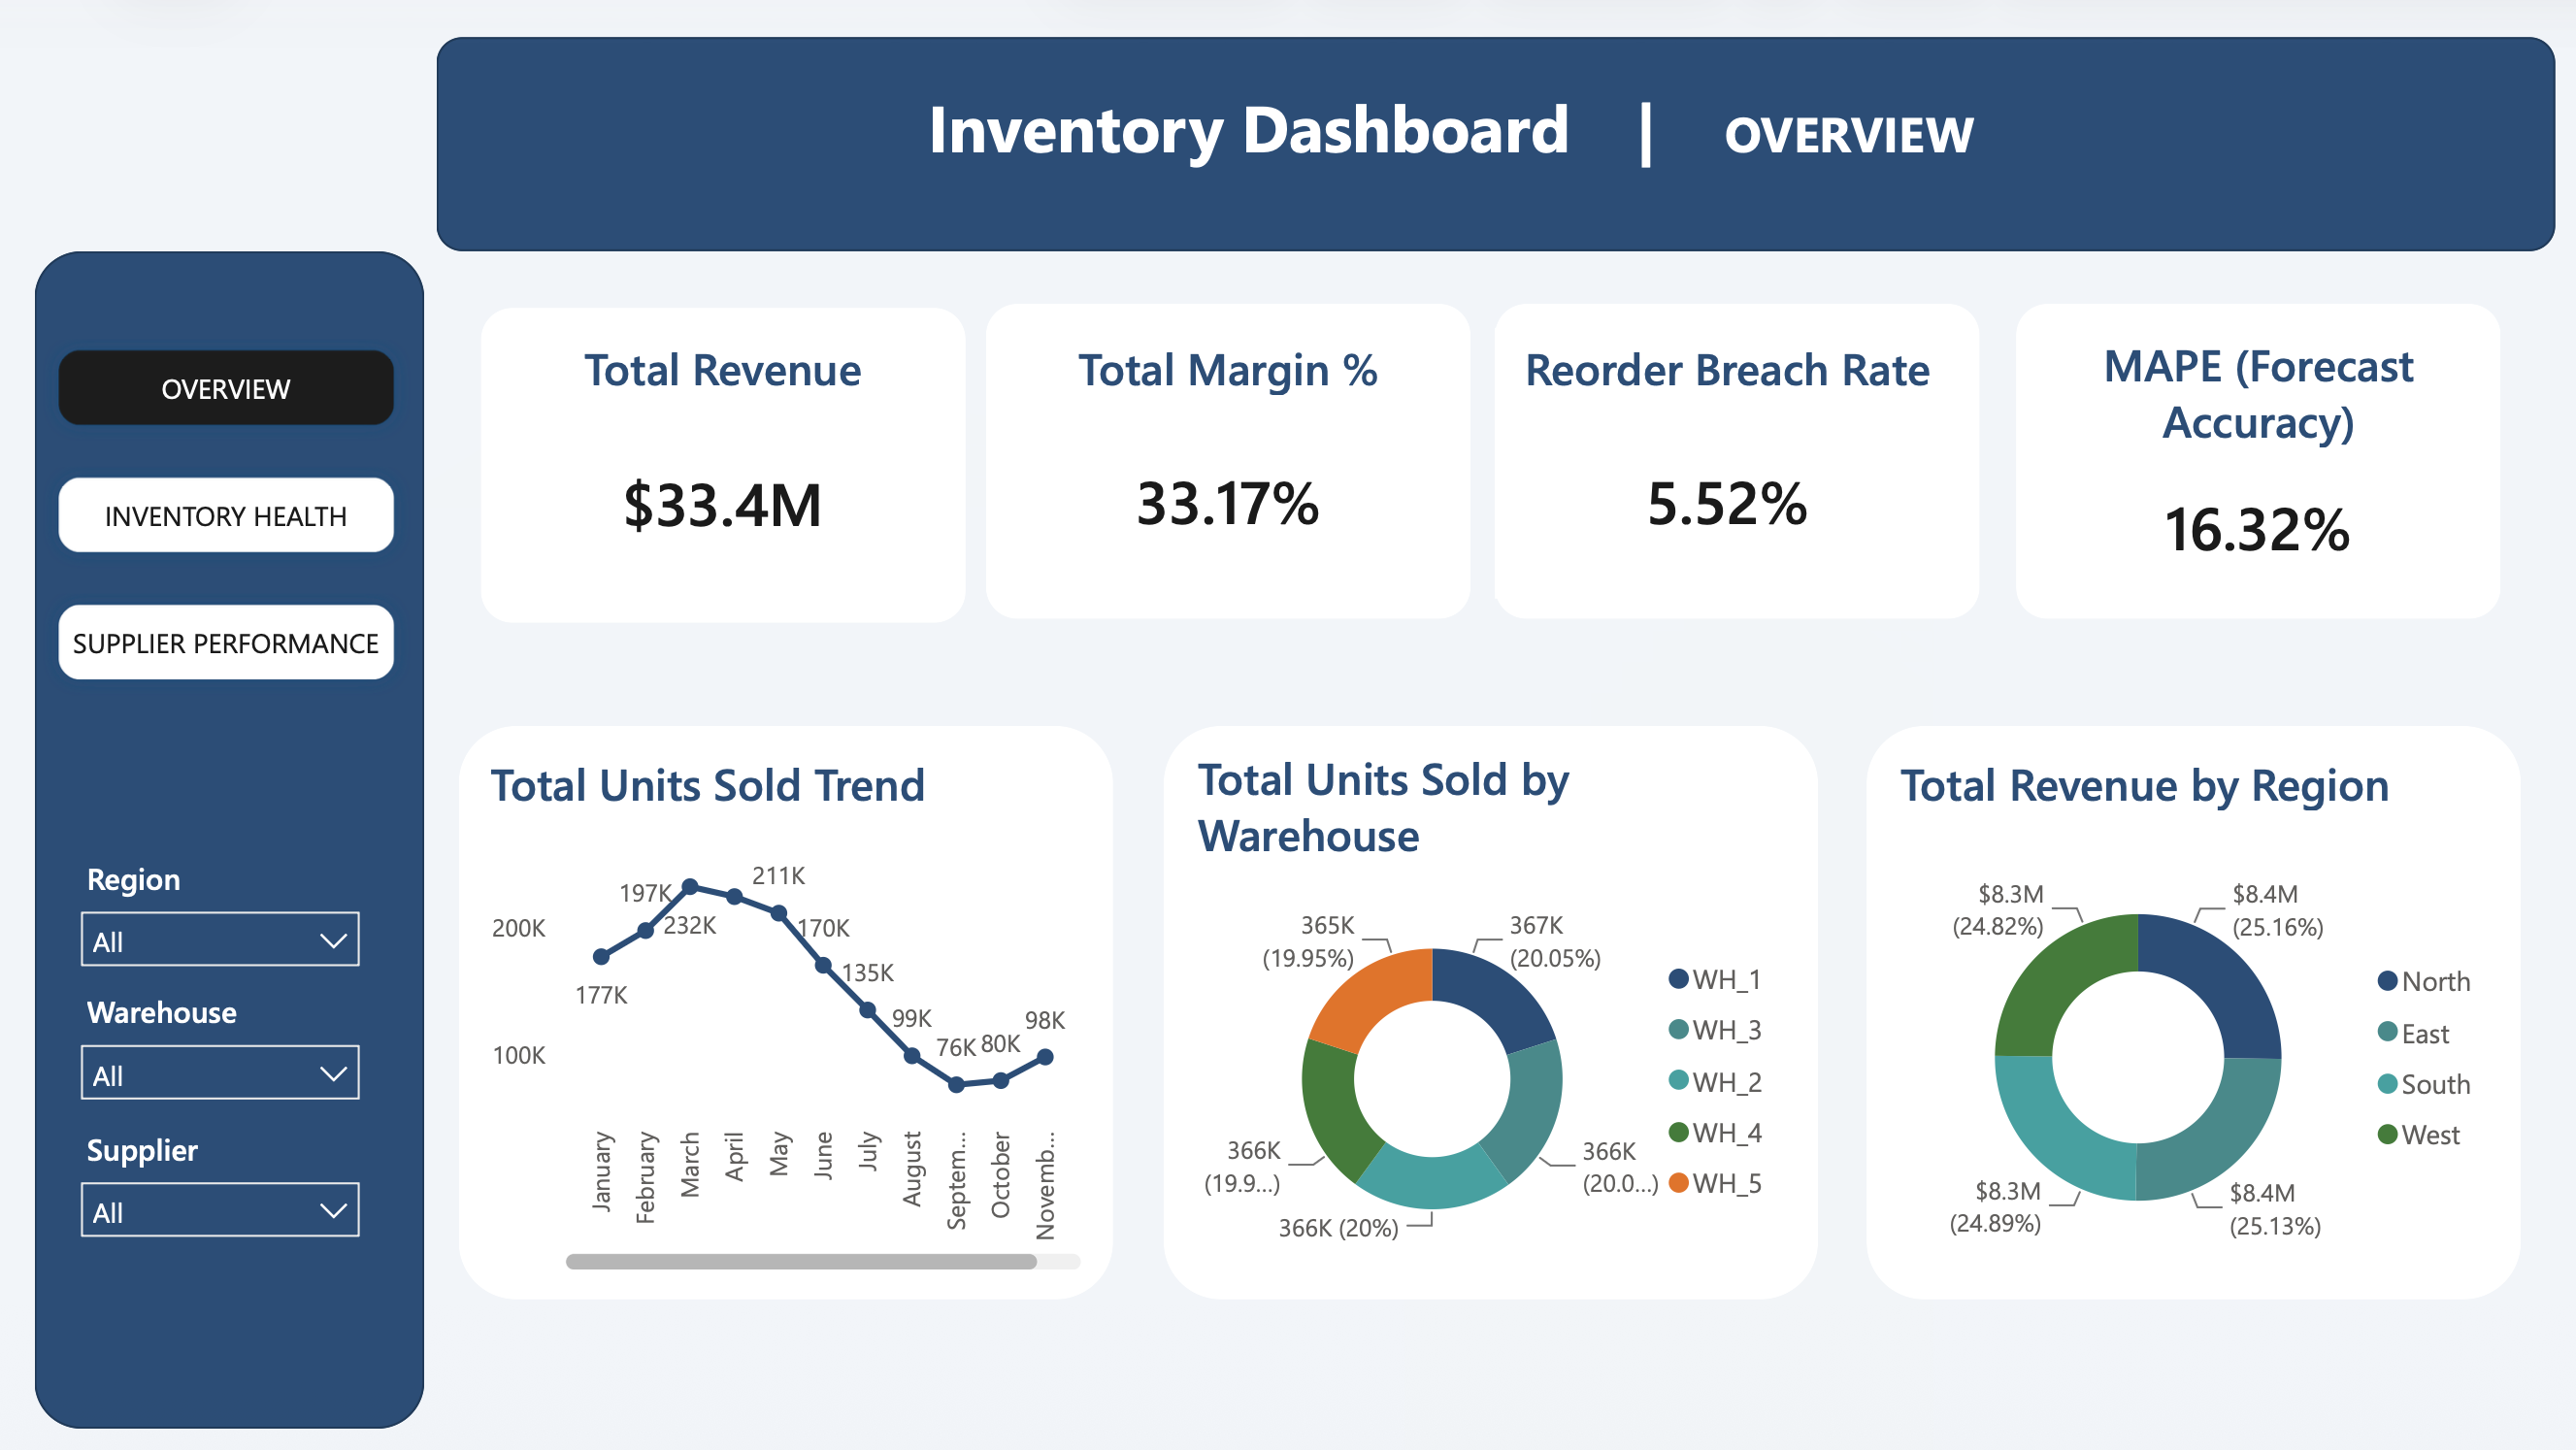

This screenshot's page, from the dashboard's own definition file:
{"tool":"powerbi","page":{"name":"OVERVIEW","canvas":[1280,720],"ordinal":0},"visuals":[{"type":"shape","box":[20,125,192.5,582.5],"z":0},{"type":"slicer","fields":{"Values":["DimRegion.Region"]},"box":[33.3,420.2,157.6,68.7],"z":0,"group":"g1"},{"type":"shape","box":[218.6,18.7,1049.8,106.4],"z":1000},{"type":"slicer","fields":{"Values":["DimWarehouse.Warehouse_ID"]},"box":[33.3,485.9,157.6,68.7],"z":1000,"group":"g1"},{"type":"shape","box":[578.6,360,324.3,284.3],"z":2000},{"type":"slicer","fields":{"Values":["DimSupplier.Supplier_ID"]},"box":[33.3,554.5,157.6,68.7],"z":2000,"group":"g1"},{"type":"shape","box":[927.1,360,324.3,284.3],"z":3000},{"type":"shape","box":[230,360,324.3,284.3],"z":4000},{"type":"shape","box":[1001.4,151.4,240,155.7],"z":5000},{"type":"shape","box":[742.9,151.4,240,155.7],"z":6000},{"type":"shape","box":[491.4,151.4,240,155.7],"z":7000},{"type":"shape","box":[241.4,152.9,240,155.7],"z":8000},{"type":"cardVisual","title":"Total Revenue","fields":{"Data":["_Measure.Total Revenue"]},"box":[245.7,162.9,230.3,135.5],"z":10000},{"type":"textbox","box":[320.7,36,801,71.9],"z":11000},{"type":"pageNavigator","box":[24.3,166.2,182.4,181.1],"z":13000},{"type":"cardVisual","title":"Total Margin %","fields":{"Data":["_Measure.Total Margin %"]},"box":[495.7,162.9,231.6,134.2],"z":14000},{"type":"cardVisual","title":"Reorder Breach Rate","fields":{"Data":["_Measure.Reorder Breach Rate"]},"box":[742.9,162.9,231.6,134.2],"z":15000},{"type":"cardVisual","title":"MAPE (Forecast Accuracy)","fields":{"Data":["_Measure.MAPE"]},"box":[1005.7,161.4,231.6,135.5],"z":16000},{"type":"lineChart","title":"Total Units Sold Trend","fields":{"Y":["_Measure.Total Units Sold"],"Category":["DimDate.MonthName"]},"box":[241.4,374.3,301.4,260],"z":17000},{"type":"donutChart","fields":{"Category":["DimRegion.Region"],"Y":["_Measure.Total Revenue"]},"box":[938.6,374.3,302.9,260],"z":18000},{"type":"donutChart","title":"Total Units Sold by Warehouse","fields":{"Category":["DimWarehouse.Warehouse_ID"],"Y":["_Measure.Total Units Sold"]},"box":[591.1,371,299.1,260.3],"z":19000},{"type":"group","id":"g1","title":"Group 1","box":[33.3,420.2,157.6,203],"z":20000}]}

Visuals, with their boxes in screenshot pixels (x1, y1, x2, y2), scaled from the page's 1280x720 canvas onto the 2576x1450 screenshot:
shape: box(40, 251, 428, 1425)
slicer - DimRegion.Region: box(67, 846, 384, 984)
shape: box(440, 38, 2553, 252)
slicer - DimWarehouse.Warehouse_ID: box(67, 978, 384, 1117)
shape: box(1165, 725, 1817, 1298)
slicer - DimSupplier.Supplier_ID: box(67, 1117, 384, 1255)
shape: box(1866, 725, 2519, 1298)
shape: box(463, 725, 1115, 1298)
shape: box(2015, 305, 2498, 618)
shape: box(1495, 305, 1978, 618)
shape: box(989, 305, 1472, 618)
shape: box(486, 308, 969, 621)
"Total Revenue" cardVisual: box(494, 328, 958, 601)
textbox: box(645, 73, 2258, 217)
pageNavigator: box(49, 335, 416, 700)
"Total Margin %" cardVisual: box(998, 328, 1464, 598)
"Reorder Breach Rate" cardVisual: box(1495, 328, 1962, 598)
"MAPE (Forecast Accuracy)" cardVisual: box(2024, 325, 2490, 598)
"Total Units Sold Trend" lineChart: box(486, 754, 1092, 1277)
donutChart - DimRegion.Region x _Measure.Total Revenue: box(1889, 754, 2498, 1277)
"Total Units Sold by Warehouse" donutChart: box(1190, 747, 1792, 1271)
"Group 1" group: box(67, 846, 384, 1255)
